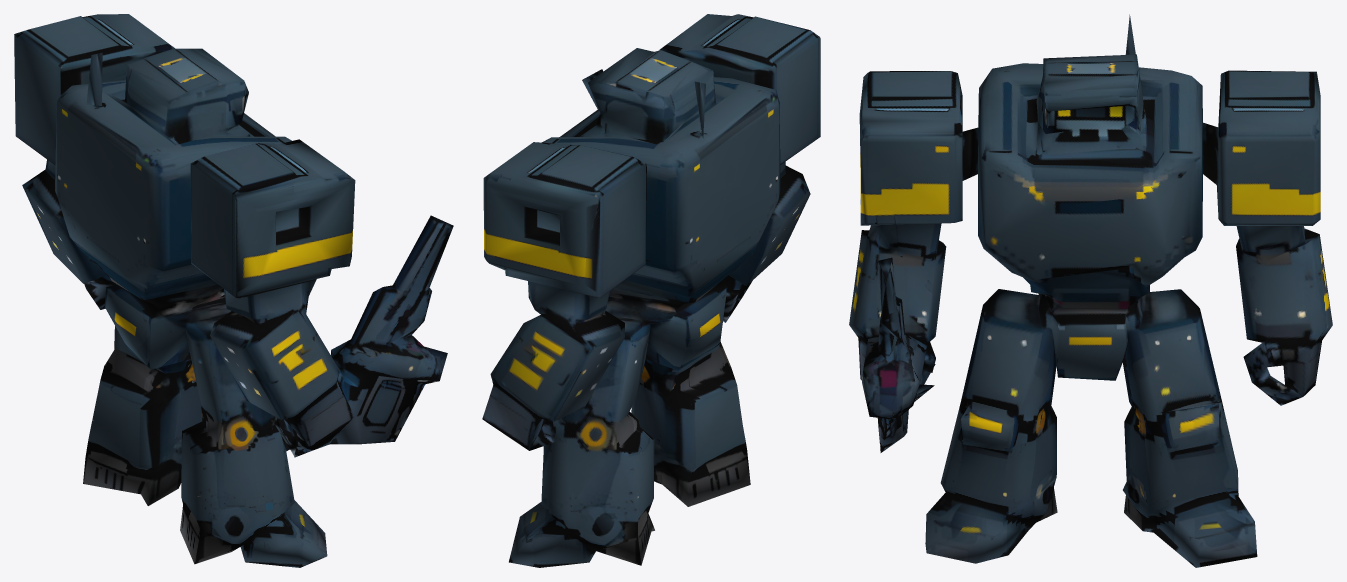
File: tripo_convert_a3cfb70b-eaff-4ba7-a1b9-b49c9146ce59.fbx
3 views of the same model, side by side, from view 1: azimuth 30°, elevation 25°; view 2: azimuth 150°, elevation 25°; view 3: azimuth 270°, elevation 25° (orthographic). The views are drawn at different scales.
Parts seen in each view (by area): view 1: tripo_node_a3cfb70b; view 2: tripo_node_a3cfb70b; view 3: tripo_node_a3cfb70b.
Part boxes in pixels (x1,y1,x2,y2): tripo_node_a3cfb70b: [14, 14, 453, 567]; tripo_node_a3cfb70b: [482, 14, 820, 567]; tripo_node_a3cfb70b: [849, 14, 1332, 567].
Bounding box in the file's own units: 0.564 × 0.9979 × 0.918.
Materials: 1 (1 with a texture image).
